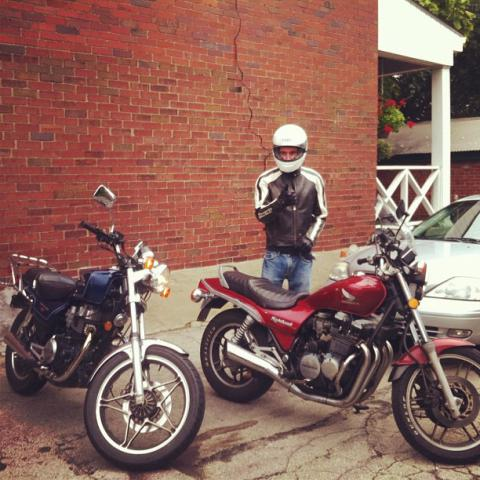car: (324, 193, 479, 347)
motorcycle: (194, 201, 479, 465), (0, 184, 207, 470)
